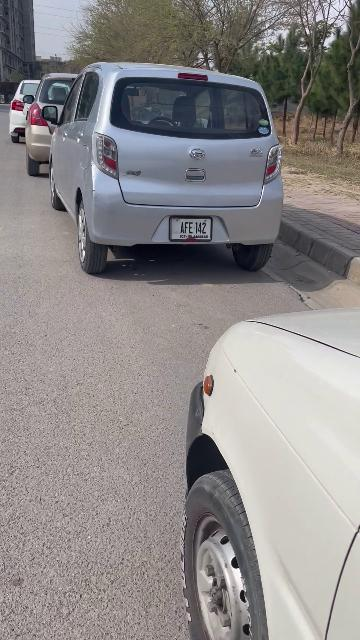plate: (170, 217, 212, 241)
